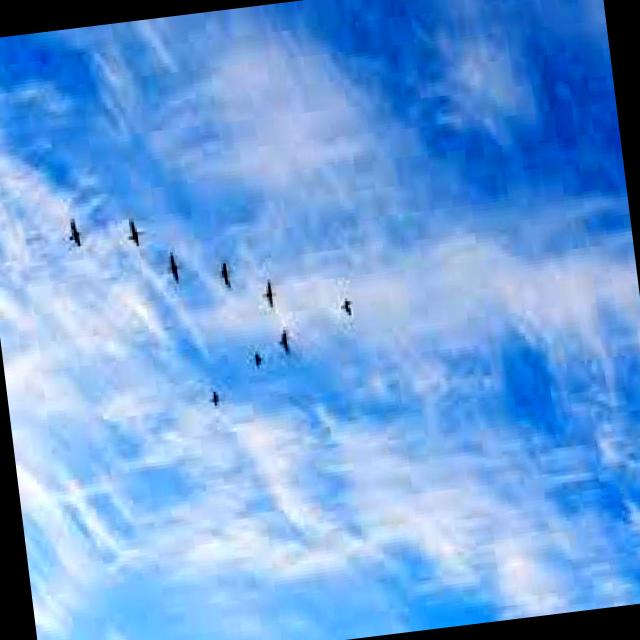bird: (57, 202, 98, 260), (114, 205, 154, 257), (158, 233, 191, 295), (206, 248, 241, 306), (196, 372, 228, 424), (252, 268, 284, 314), (268, 323, 299, 368), (242, 338, 270, 384), (335, 286, 356, 326)
